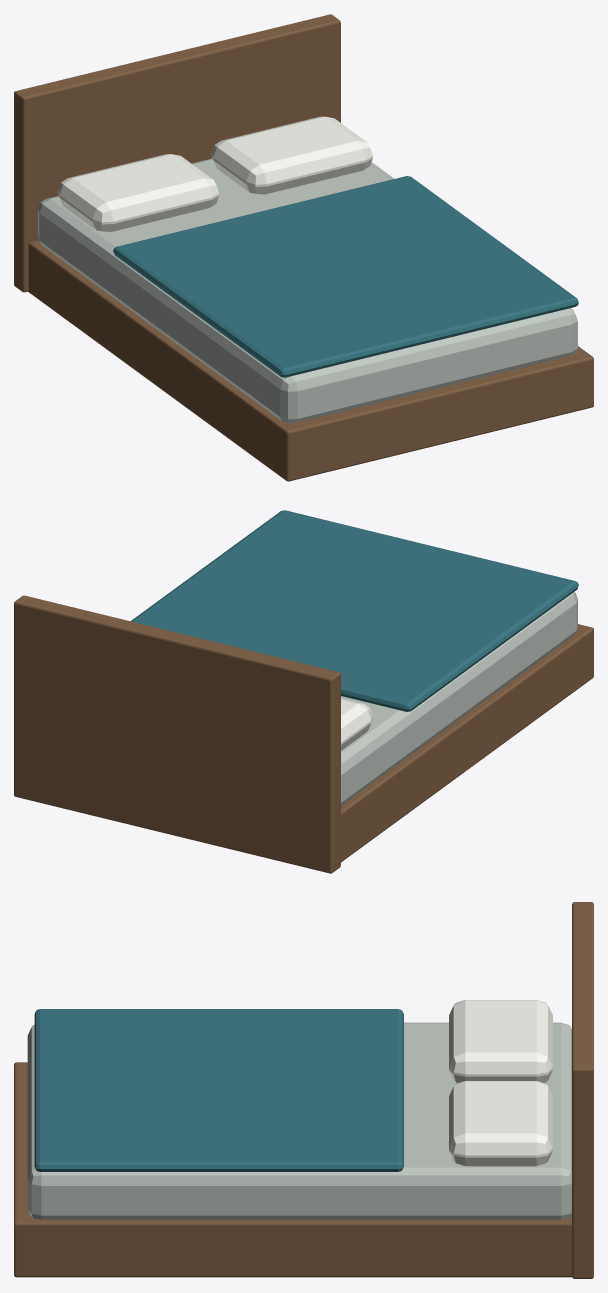
File: FinishedBed.fbx
The picture shows the model from 3 angles, top to bottom: view 1: azimuth 30°, elevation 25°; view 2: azimuth 150°, elevation 25°; view 3: azimuth 270°, elevation 25°; orthographic projection. The views are drawn at different scales.
Visible parts, largest first — view 1: Blanket, Headboard, Frame, Mattress, Pillow.001, Pillow; view 2: Headboard, Blanket, Frame, Mattress, Pillow; view 3: Blanket, Mattress, Frame, Pillow.001, Headboard, Pillow.
Boxes of the visible parts, bbox=[...] form: Blanket: bbox=[113, 176, 578, 377]; Headboard: bbox=[14, 14, 340, 292]; Frame: bbox=[28, 240, 593, 481]; Mattress: bbox=[38, 158, 577, 423]; Pillow.001: bbox=[211, 116, 372, 194]; Pillow: bbox=[58, 154, 219, 231]; Headboard: bbox=[14, 595, 340, 873]; Blanket: bbox=[131, 510, 578, 711]; Frame: bbox=[341, 624, 593, 862]; Mattress: bbox=[341, 592, 577, 805]; Pillow: bbox=[341, 698, 372, 750]; Blanket: bbox=[34, 1009, 403, 1171]; Mattress: bbox=[27, 1022, 571, 1219]; Frame: bbox=[14, 1062, 571, 1277]; Pillow.001: bbox=[449, 1081, 552, 1166]; Headboard: bbox=[572, 902, 593, 1278]; Pillow: bbox=[449, 1000, 552, 1082].
Size of the model in its own units: 145 by 85.5 by 212.
